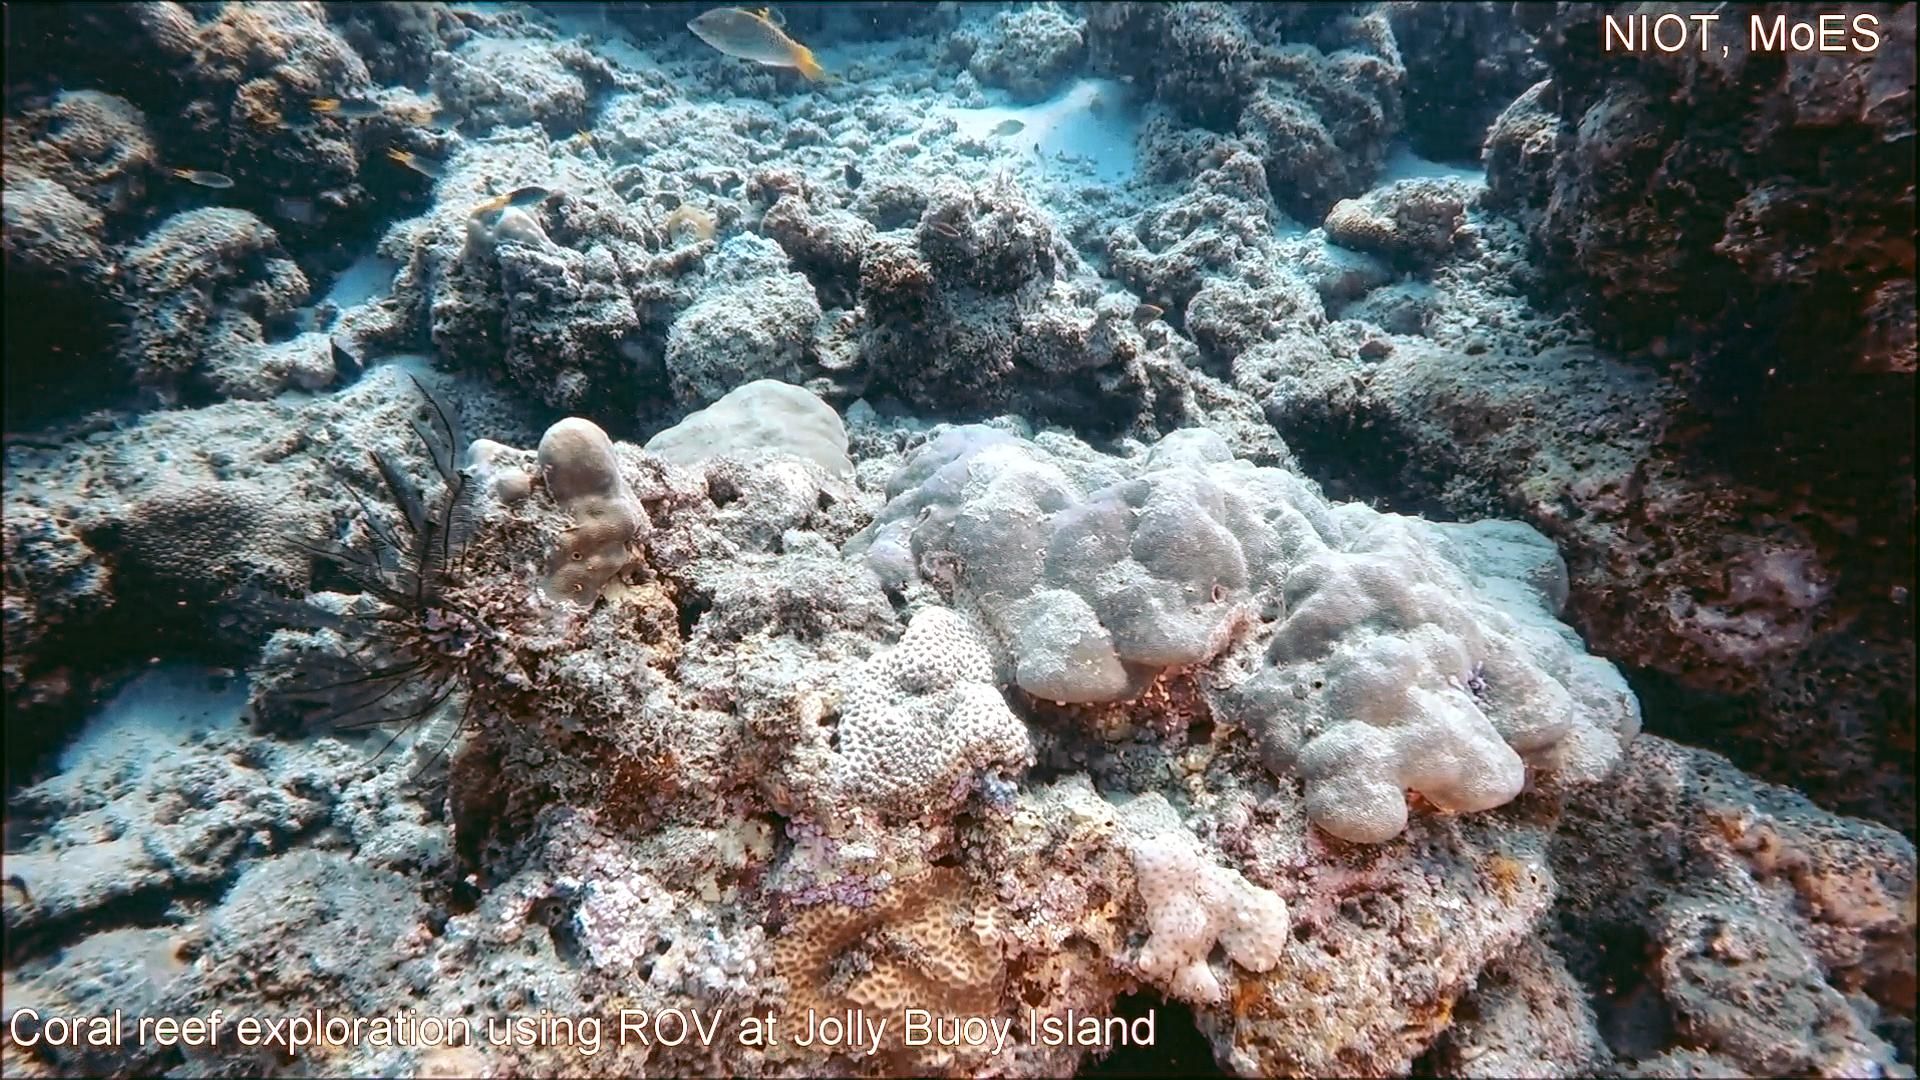Feather star-Crinoid star: (248, 368, 516, 794)
Goniastrea-Goniastrea pectinata: (829, 592, 1040, 837)
Porites-Porites pukoensis: (1126, 421, 1650, 855)
Turbinaria-Turbinaria stellulata: (104, 476, 335, 609)
